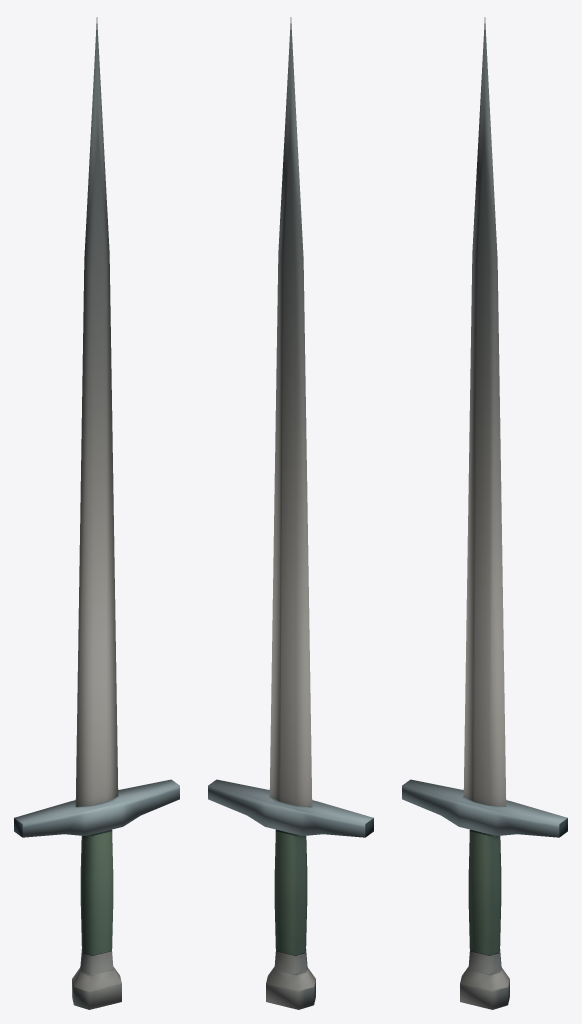
Rendered from Sword.glb.
3 renders of one model, left to right at view 1: azimuth 30°, elevation 25°; view 2: azimuth 150°, elevation 25°; view 3: azimuth 330°, elevation 25°, orthographic.
Parts seen in each view (by area): view 1: oSword_oSword_Vertex; view 2: oSword_oSword_Vertex; view 3: oSword_oSword_Vertex.
Part boxes in pixels (<box>): oSword_oSword_Vertex: <box>14,17,179,1009</box>; oSword_oSword_Vertex: <box>208,17,373,1009</box>; oSword_oSword_Vertex: <box>402,17,567,1009</box>.
Bounding box in the file's own units: 2.66 × 15.92 × 0.5053.
1 material, 1 textured.
